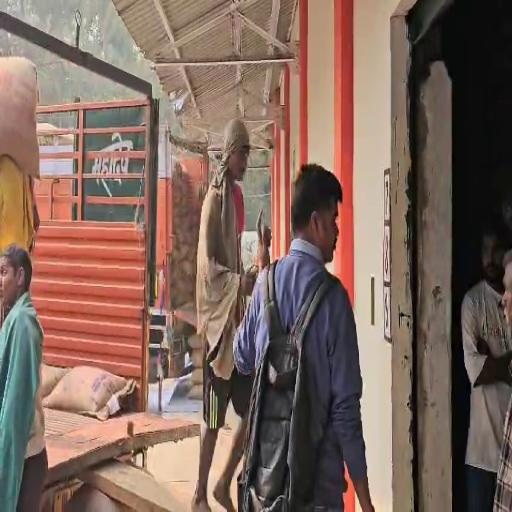bag: (0, 52, 44, 184)
